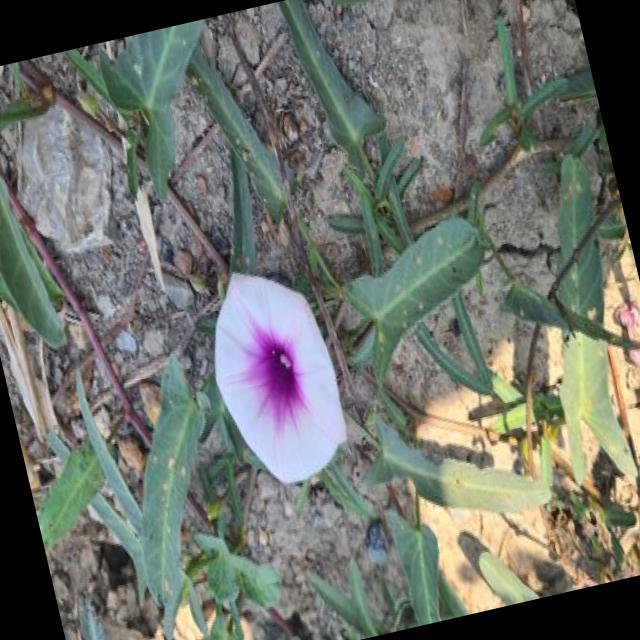ipomoea: (188, 249, 360, 501)
